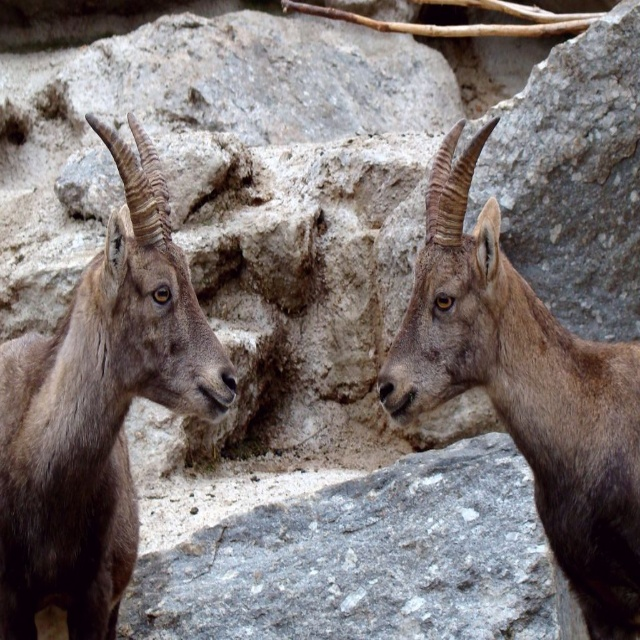Goat: (376, 113, 640, 638), (0, 114, 237, 639)
